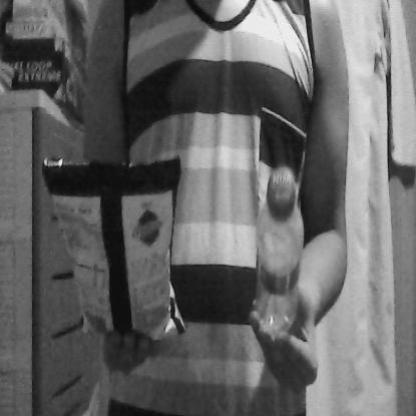Plastic Bottle: (251, 158, 308, 345)
